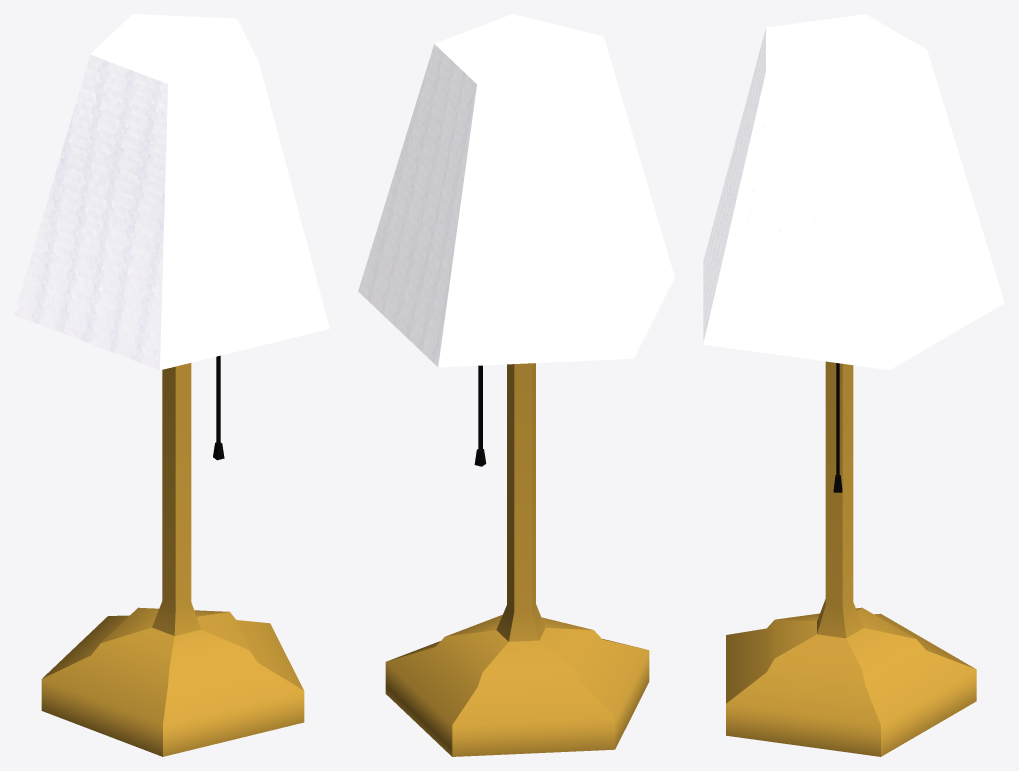
The model's file is lamp.glb.
3 views of the same model, side by side, from view 1: azimuth 30°, elevation 25°; view 2: azimuth 150°, elevation 25°; view 3: azimuth 270°, elevation 25° (orthographic).
Visible parts, largest first — view 1: Shade, Lamp, cord; view 2: Shade, Lamp, cord; view 3: Shade, Lamp, cord.
Part boxes in pixels (x1,y1,x2,y2): Shade: [14, 14, 329, 370]; Lamp: [41, 363, 304, 756]; cord: [213, 355, 224, 460]; Shade: [358, 14, 674, 367]; Lamp: [385, 363, 649, 756]; cord: [474, 365, 486, 466]; Shade: [703, 14, 1004, 370]; Lamp: [726, 361, 976, 756]; cord: [833, 363, 842, 492].
Size of the model in its own units: 0.0343 by 0.0777 by 0.0326.
3 materials, 2 textured.
